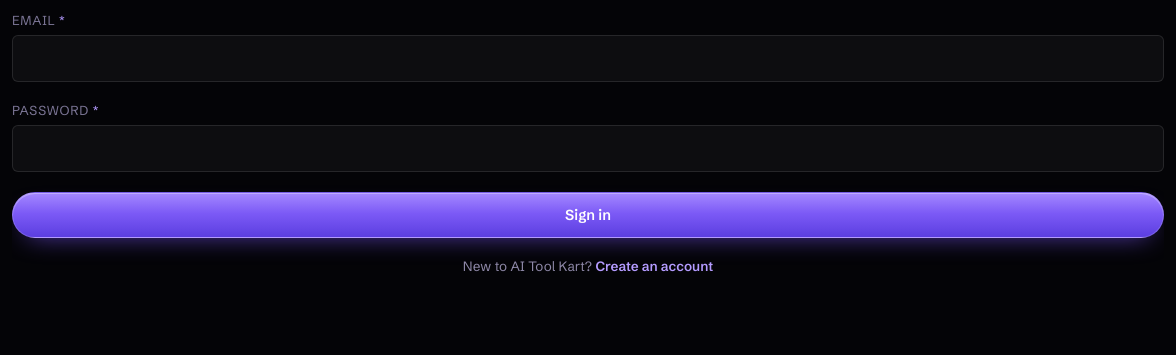
Test: AuthForm › shows the server’s vague message on 401
This screenshot has width=1176, height=355.
In the field labelled "Email *": (588, 58) [12,35,1164,82], type "ada@example.com"
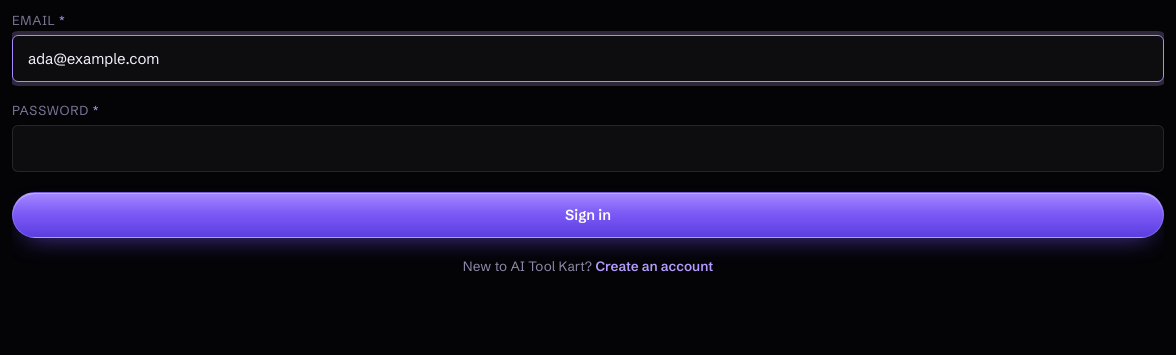
In the password field labelled "Password *": (588, 148) [12,125,1164,172], type "wrong password"
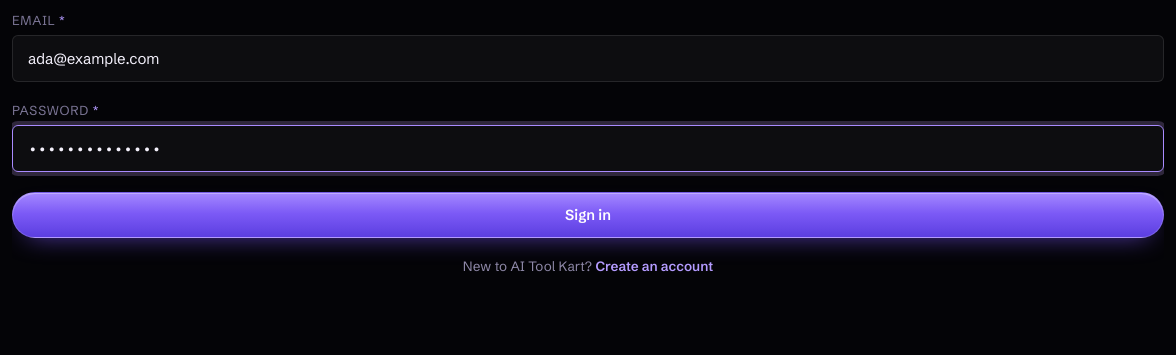
Click the button "Sign in": (588, 215) [12,192,1164,238]
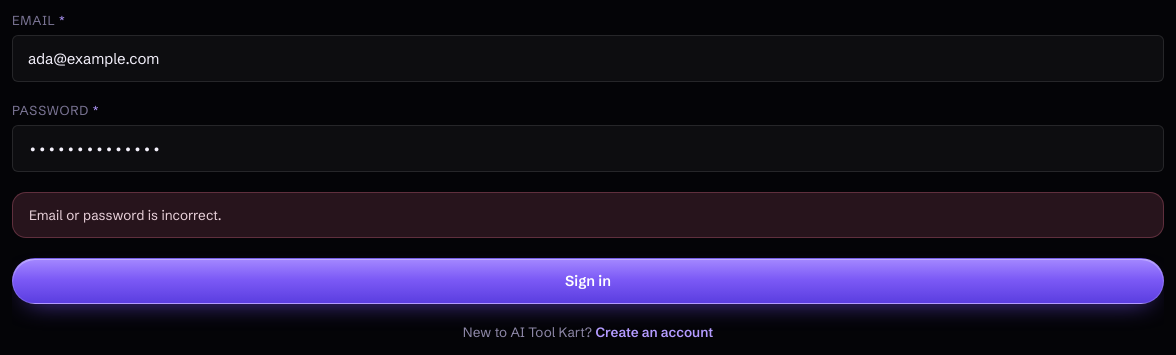
Now the text "Email or password is incorrect." is shown, box [12,192,1164,238]
